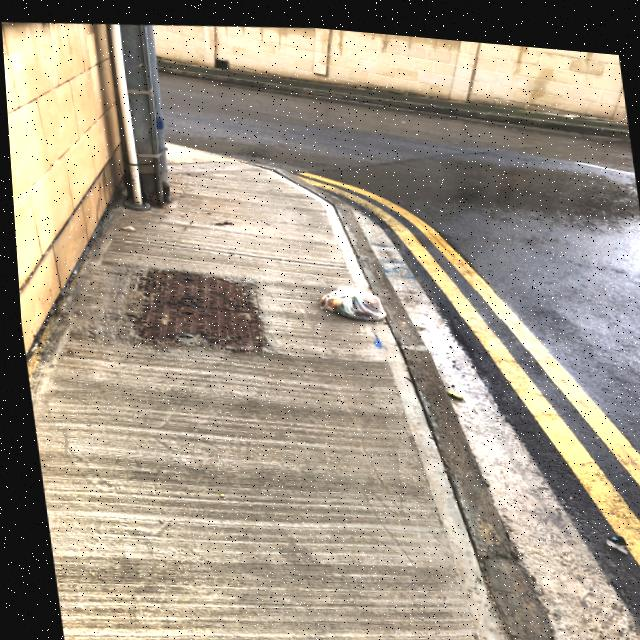Organic Waste -White Bag-: (311, 266, 390, 324)
